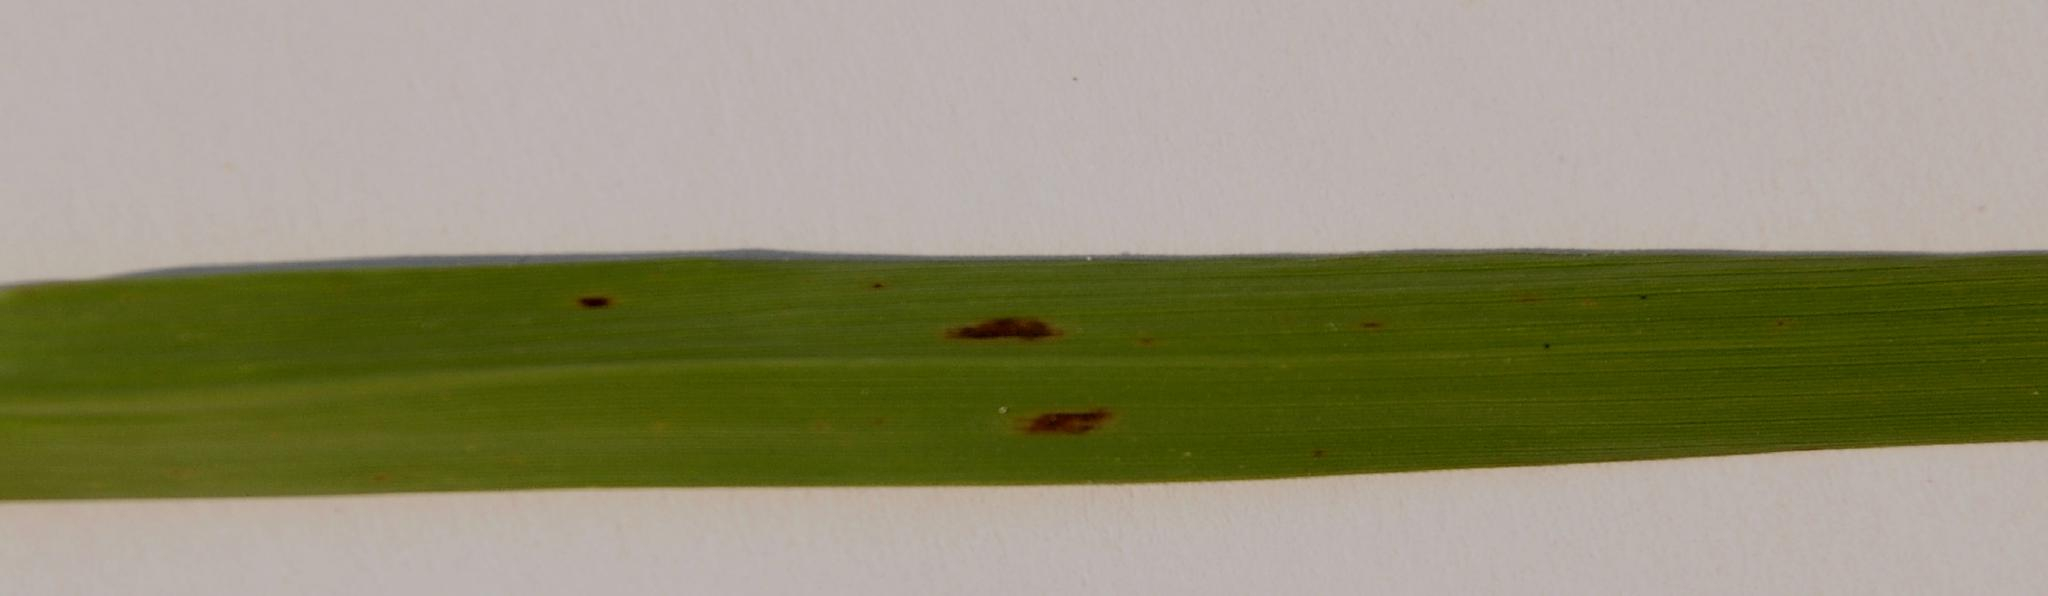0 BrownSpot: (927, 286, 1126, 374), (1010, 396, 1172, 447), (545, 281, 658, 329)
